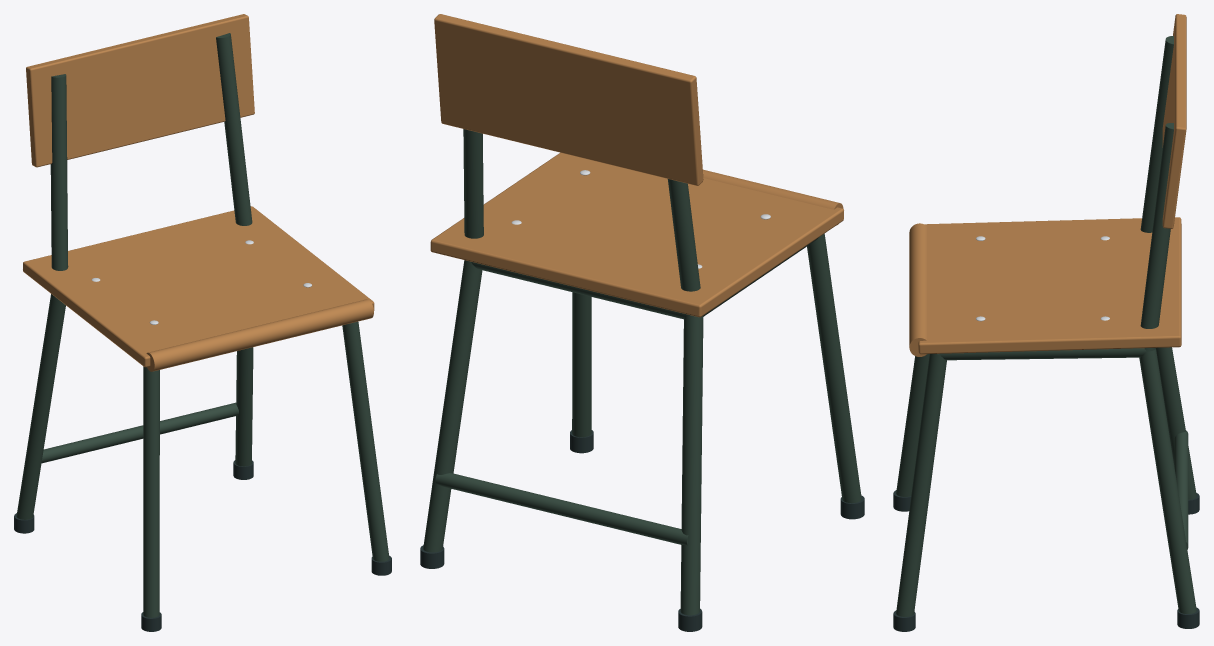
The model's file is wp-chaise-scolaire.glb.
The picture shows the model from 3 angles, left to right: view 1: azimuth 30°, elevation 25°; view 2: azimuth 150°, elevation 25°; view 3: azimuth 270°, elevation 25°; orthographic projection. The views are drawn at different scales.
Parts seen in each view (by area): view 1: wp-chaise-scolaire; view 2: wp-chaise-scolaire; view 3: wp-chaise-scolaire.
Part boxes in pixels (x1,y1,x2,y2): wp-chaise-scolaire: (14,14,391,631); wp-chaise-scolaire: (420,14,864,631); wp-chaise-scolaire: (893,14,1199,631).
Size of the model in its own units: 0.4469 by 0.7996 by 0.4465.
